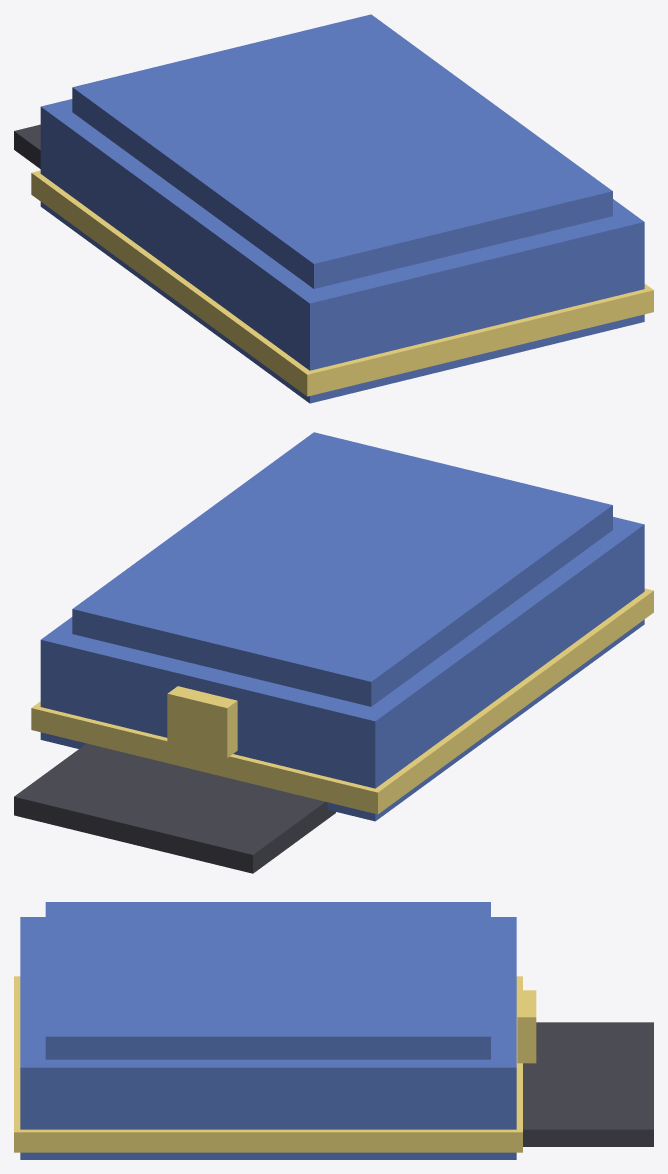
Rendered from bone_carteiro.glb.
The picture shows the model from 3 angles, top to bottom: view 1: azimuth 30°, elevation 25°; view 2: azimuth 150°, elevation 25°; view 3: azimuth 270°, elevation 25°; orthographic projection. The views are drawn at different scales.
Visible parts, largest first — view 1: bone_carteiro; view 2: bone_carteiro; view 3: bone_carteiro.
Part boxes in pixels (x1=…): bone_carteiro: x1=14, y1=14, x2=653, y2=403; bone_carteiro: x1=14, y1=432, x2=653, y2=873; bone_carteiro: x1=14, y1=902, x2=653, y2=1159.
Size of the model in its own units: 0.58 by 0.215 by 1.01.
